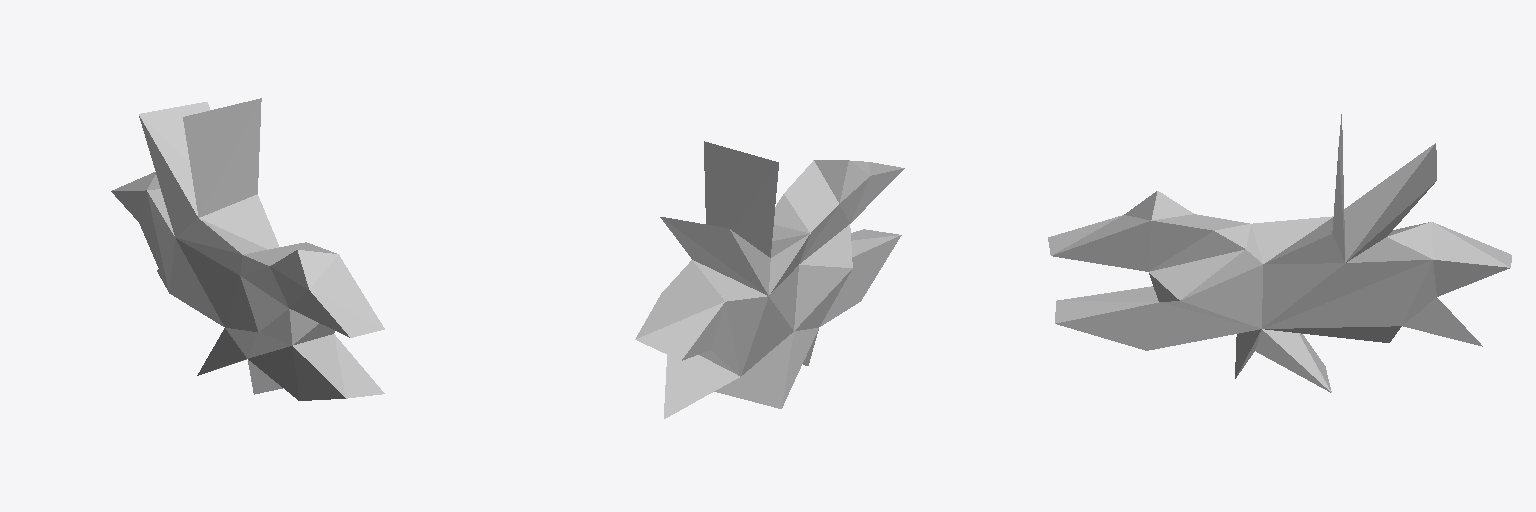
3 renders of one model, left to right at view 1: azimuth 30°, elevation 25°; view 2: azimuth 150°, elevation 25°; view 3: azimuth 270°, elevation 25°, orthographic.
Visible parts, largest first — view 1: ai_model; view 2: ai_model; view 3: ai_model.
Boxes of the visible parts, <box> form: ai_model: <box>111,98,384,400</box>; ai_model: <box>635,141,904,418</box>; ai_model: <box>1048,114,1511,392</box>.
Size of the model in its own units: 0.2009 by 0.5811 by 0.9564.